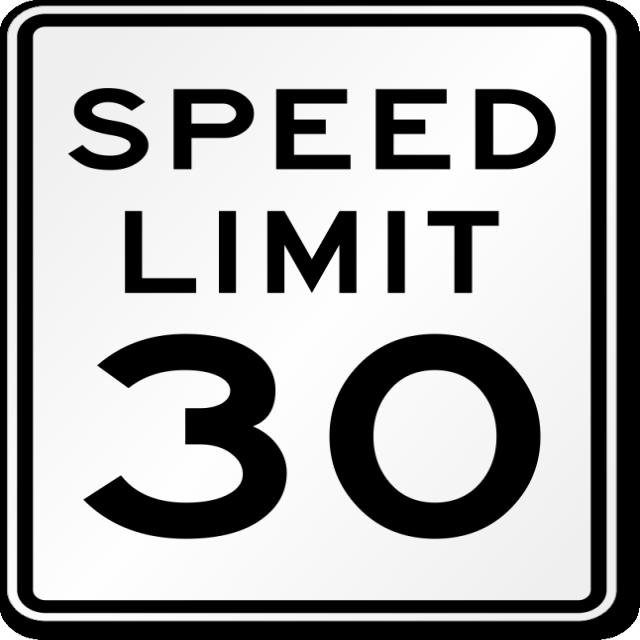Speed Limit Signs: (8, 6, 621, 622)
